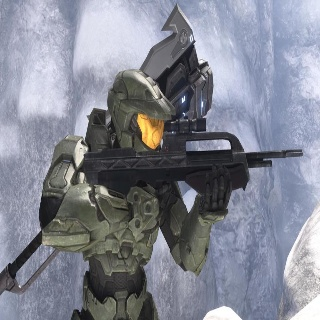rifle: (80, 116, 304, 198)
